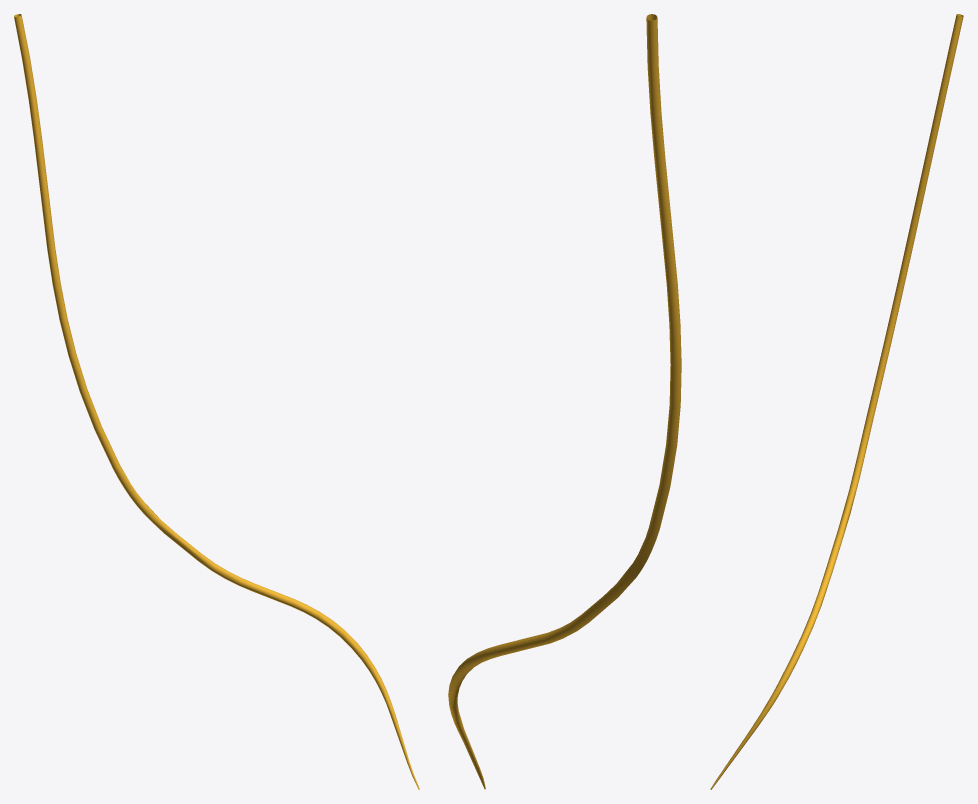
File: nervoso-palmar-branch-of-median-nerve-l.glb
3 views of the same model, side by side, from view 1: azimuth 30°, elevation 25°; view 2: azimuth 150°, elevation 25°; view 3: azimuth 270°, elevation 25° (orthographic). The views are drawn at different scales.
Visible parts, largest first — view 1: Palmar branch of median nerve.l; view 2: Palmar branch of median nerve.l; view 3: Palmar branch of median nerve.l.
Part boxes in pixels (left/top/right/bottom): Palmar branch of median nerve.l: left=14, top=14, right=419, bottom=789; Palmar branch of median nerve.l: left=448, top=14, right=681, bottom=789; Palmar branch of median nerve.l: left=710, top=14, right=963, bottom=789.
Bounding box in the file's own units: 0.0373 × 0.0986 × 0.0343.
